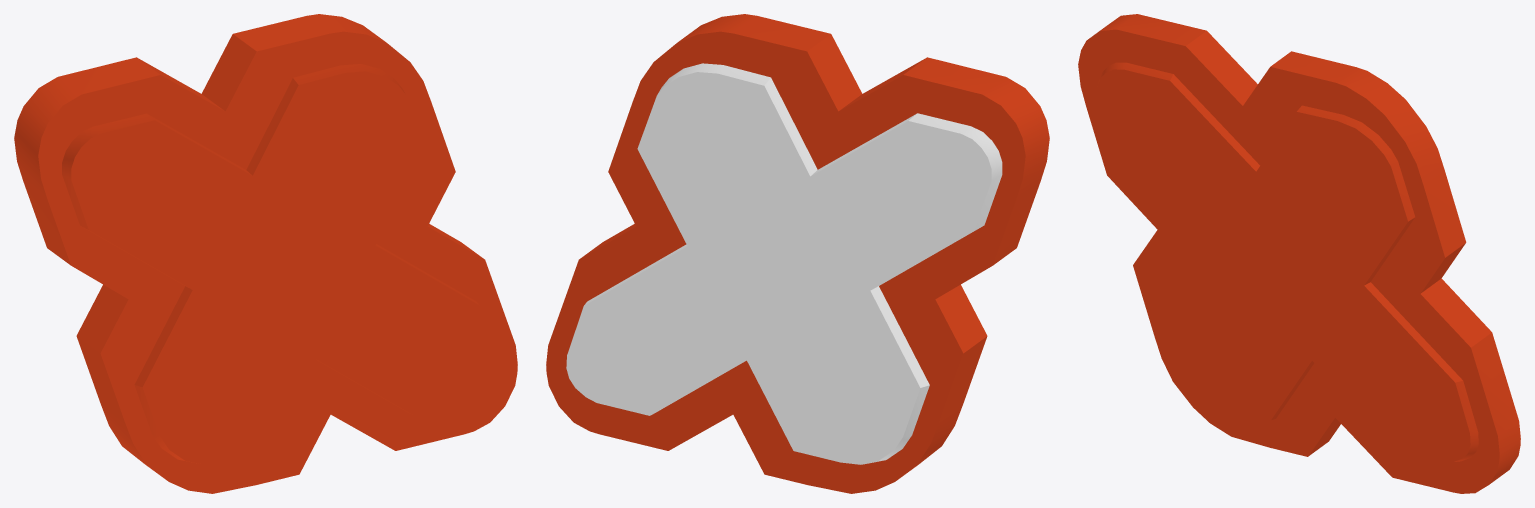
Rendered from ps2_save-icons_shox.glb.
The picture shows the model from 3 angles, left to right: view 1: azimuth 30°, elevation 25°; view 2: azimuth 150°, elevation 25°; view 3: azimuth 330°, elevation 25°; orthographic projection. The views are drawn at different scales.
Visible parts, largest first — view 1: x_view.ico; view 2: x_view.ico; view 3: x_view.ico.
Boxes of the visible parts, x1,y1,x2,y2 form: x_view.ico: (14,14,517,493); x_view.ico: (546,14,1049,493); x_view.ico: (1078,14,1520,493).
Bounding box in the file's own units: 4.7 × 4.06 × 0.6265.
Materials: 1 (1 with a texture image).
